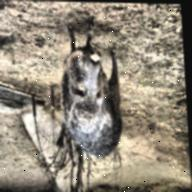boar: (52, 21, 137, 161)
